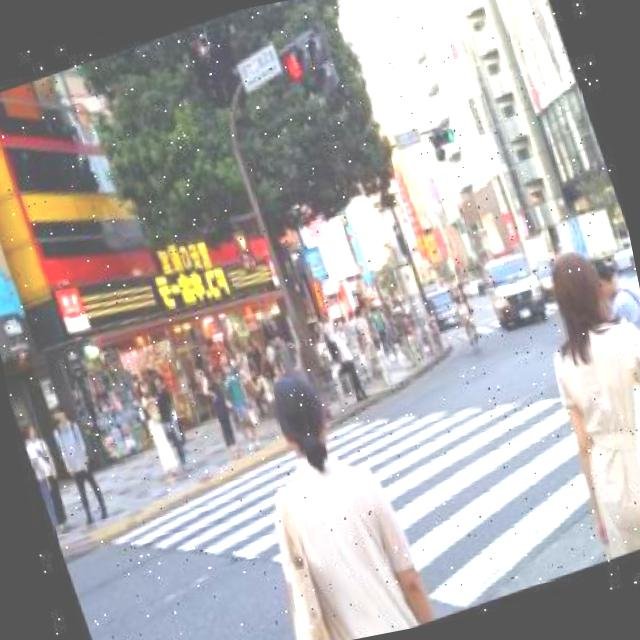Person: (219, 344, 432, 640), (504, 233, 640, 567), (42, 392, 113, 534), (18, 406, 80, 546), (140, 357, 197, 482), (207, 338, 264, 454), (128, 374, 184, 491), (190, 352, 244, 455)
